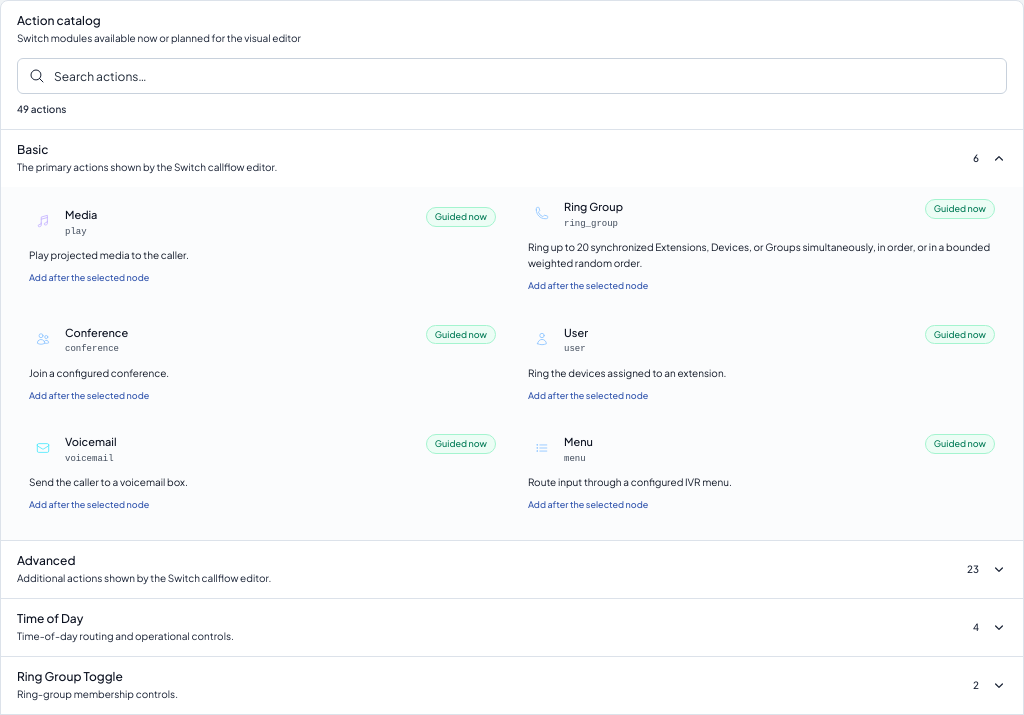
Test: CallflowActionPalette › keeps DISA non-interactive without an approved access policy
In the search field with placeholder "Search actions…": (512, 76) 17,58 -> 1007,94, type "disa"
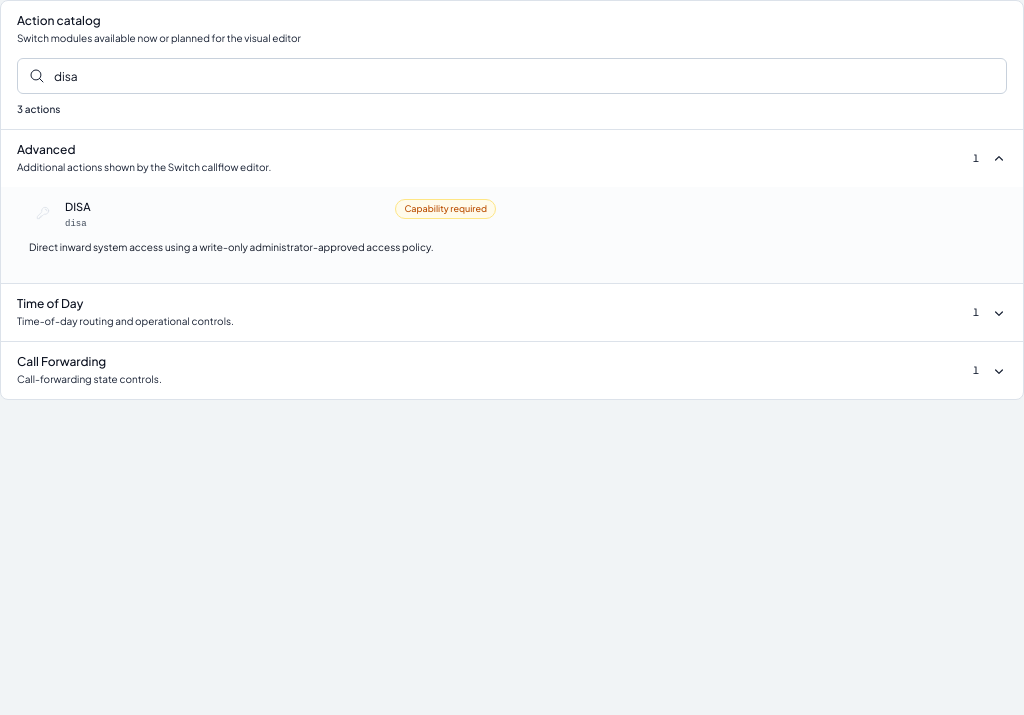
Now the button with aria-label "DISA · disa · Capability required · No active administrator-" is disabled, box 17,187 -> 508,267
